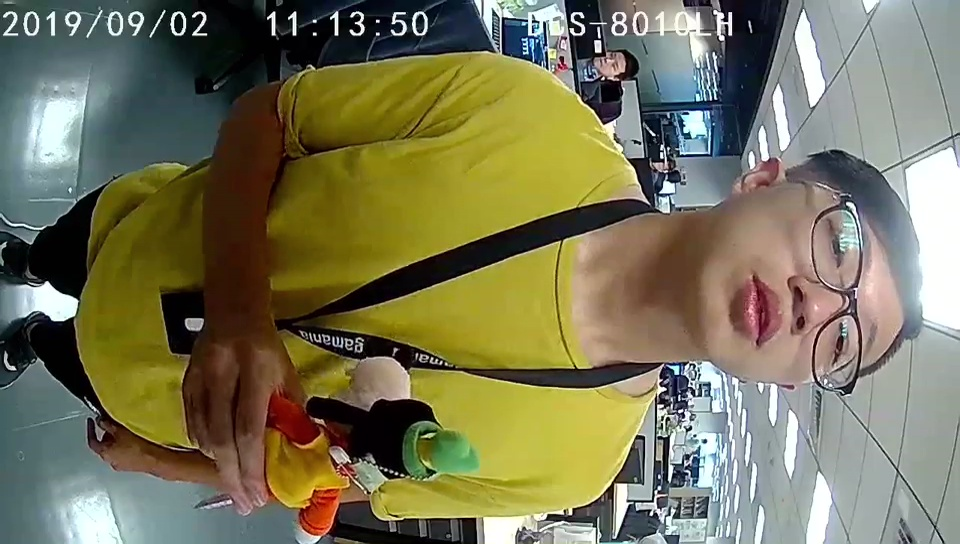goofy: (273, 390, 478, 543)
